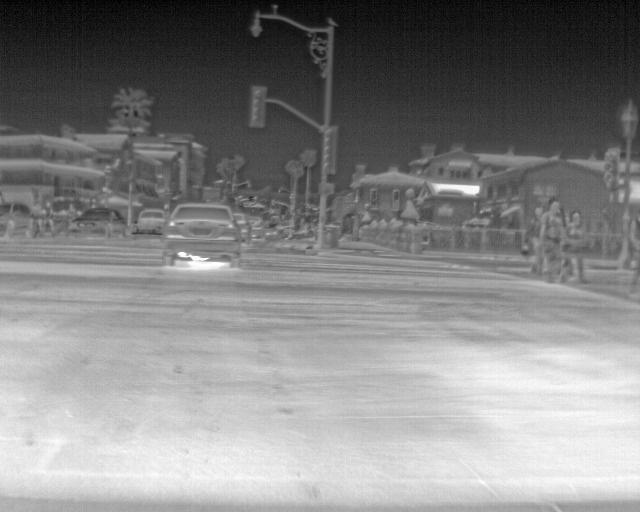bicycle: (162, 204, 239, 264), (66, 204, 128, 239), (2, 198, 46, 236), (132, 206, 170, 237), (233, 212, 250, 242)
empty: (540, 198, 564, 281), (566, 210, 590, 287)
